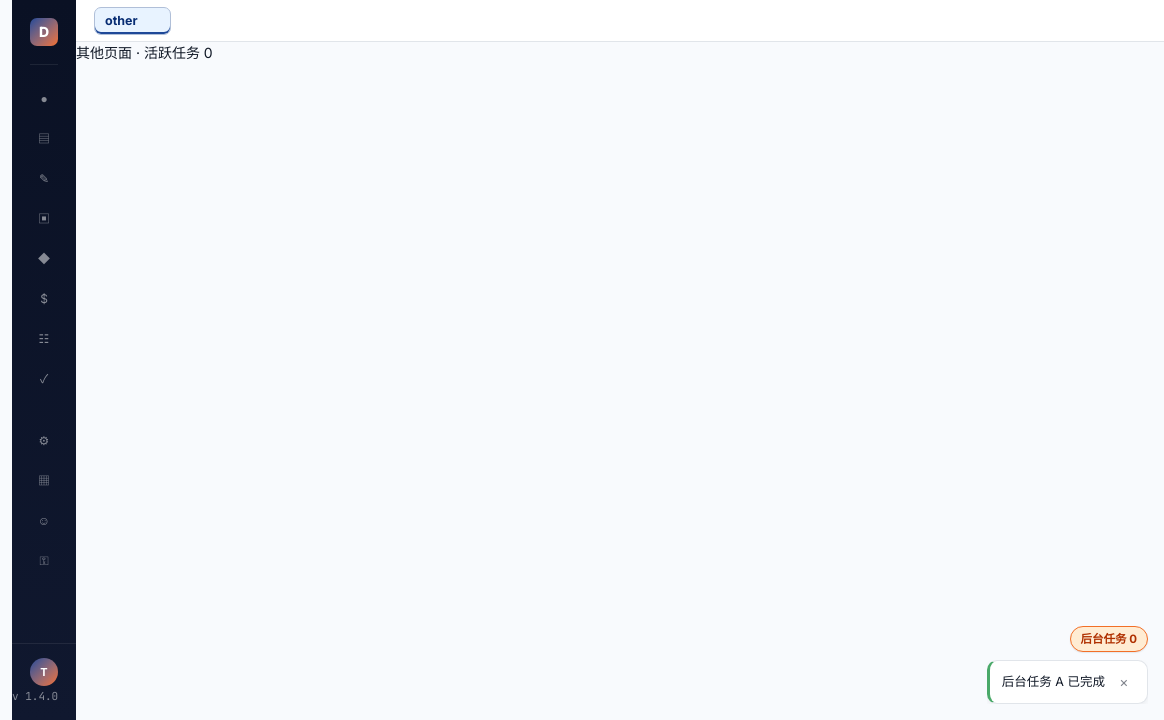
Test: background-runs: G2 后台继续 › background-runs: 点击已完成通知跳转对应会话并触发【已完成未读】消失（RP-058）
Click the button with aria-label "查看会话：后台任务 A 已完成": (1053, 682) top-left (1002, 672), bottom-right (1105, 692)
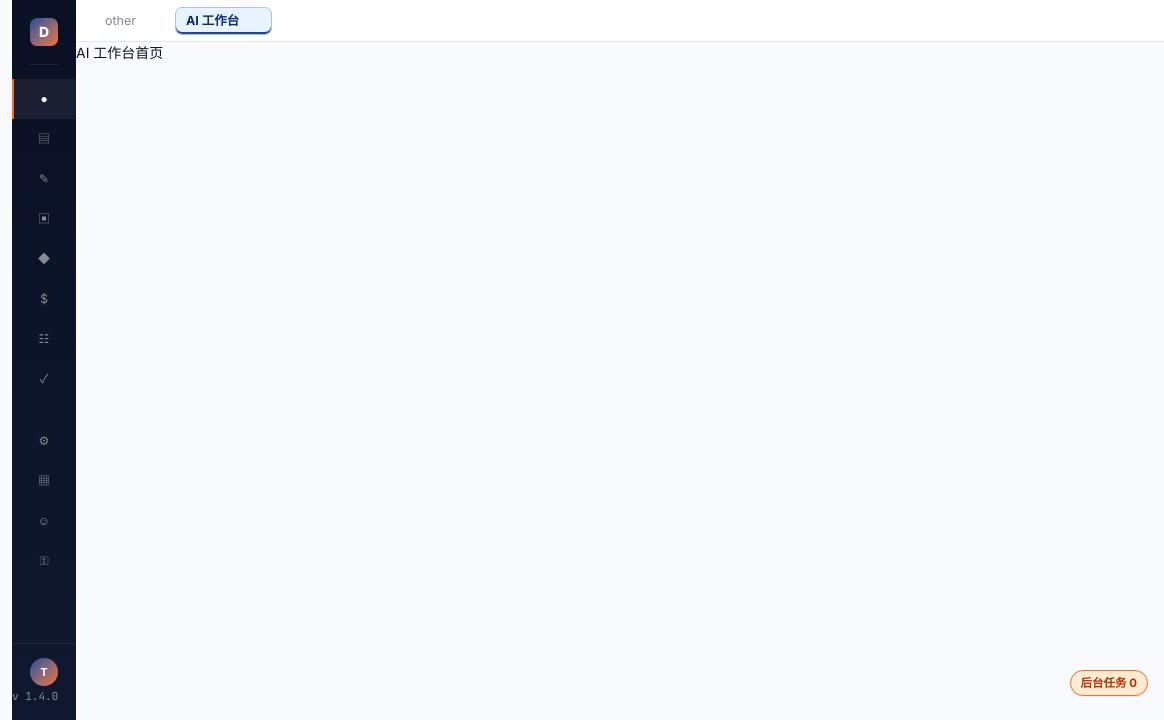
Now the text "AI 工作台首页" is shown, box top-left (76, 44), bottom-right (163, 61)
Now no elements with class "background-run-notification" are shown
